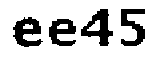4: (81, 5, 114, 48)
5: (117, 4, 148, 51)
e: (12, 14, 44, 48), (48, 16, 78, 49)
